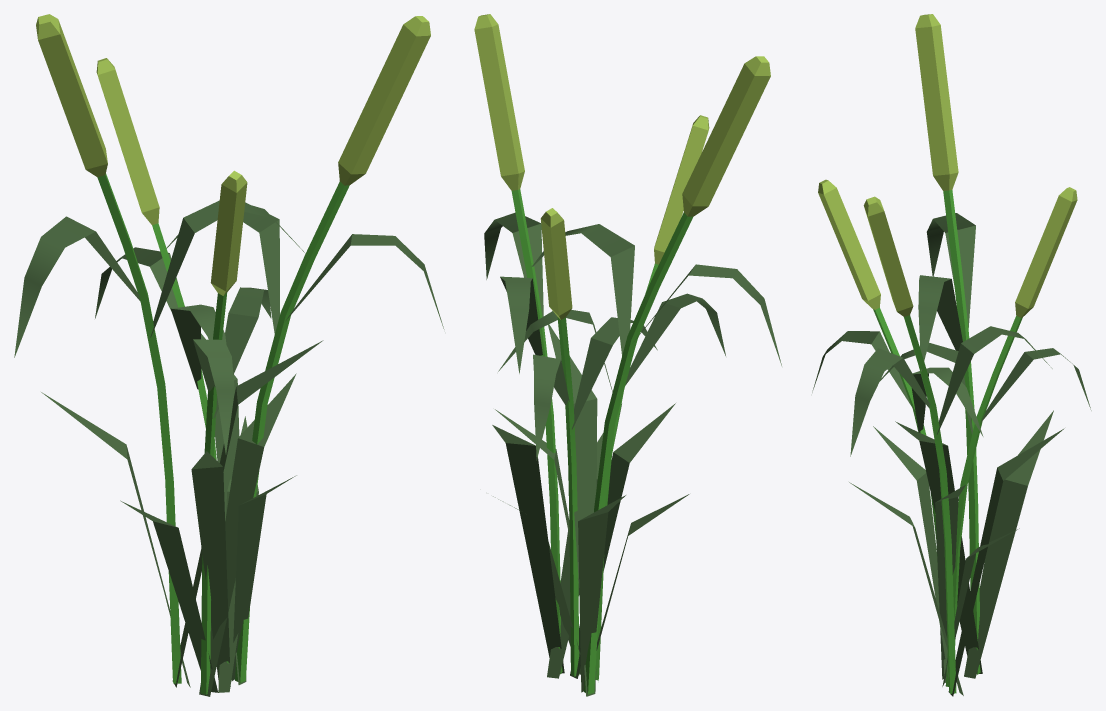
File: grass_07.fbx
3 renders of one model, left to right at view 1: azimuth 30°, elevation 25°; view 2: azimuth 150°, elevation 25°; view 3: azimuth 270°, elevation 25°, orthographic. The views are drawn at different scales.
Visible parts, largest first — view 1: grass_07; view 2: grass_07; view 3: grass_07.
Boxes of the visible parts, x1=… form: grass_07: x1=14, y1=14, x2=444, y2=696; grass_07: x1=474, y1=14, x2=781, y2=696; grass_07: x1=812, y1=14, x2=1091, y2=696.
Bounding box in the file's own units: 61.41 × 113 × 47.91.
